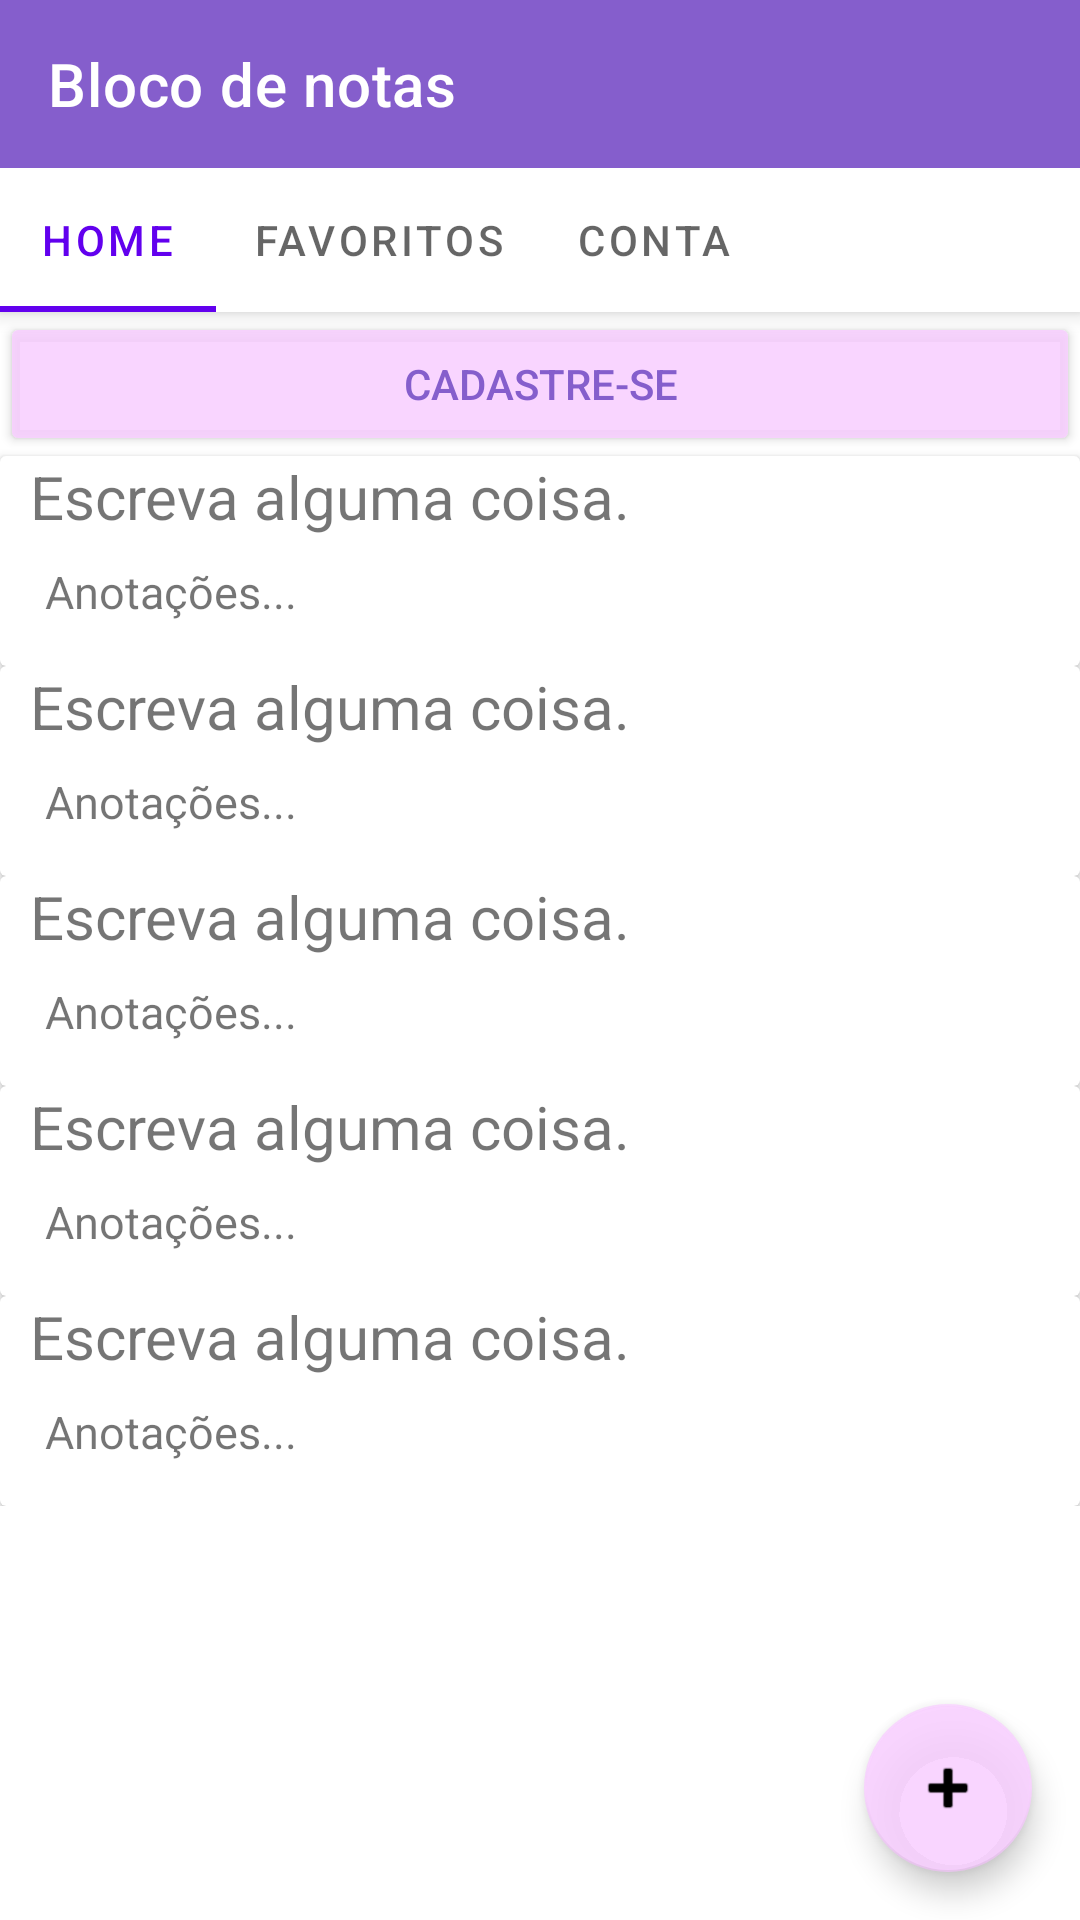

Icon click points for this 1080x1920 phone screenshot, format point (x, y):
Adicione um card: point (948, 1788)
